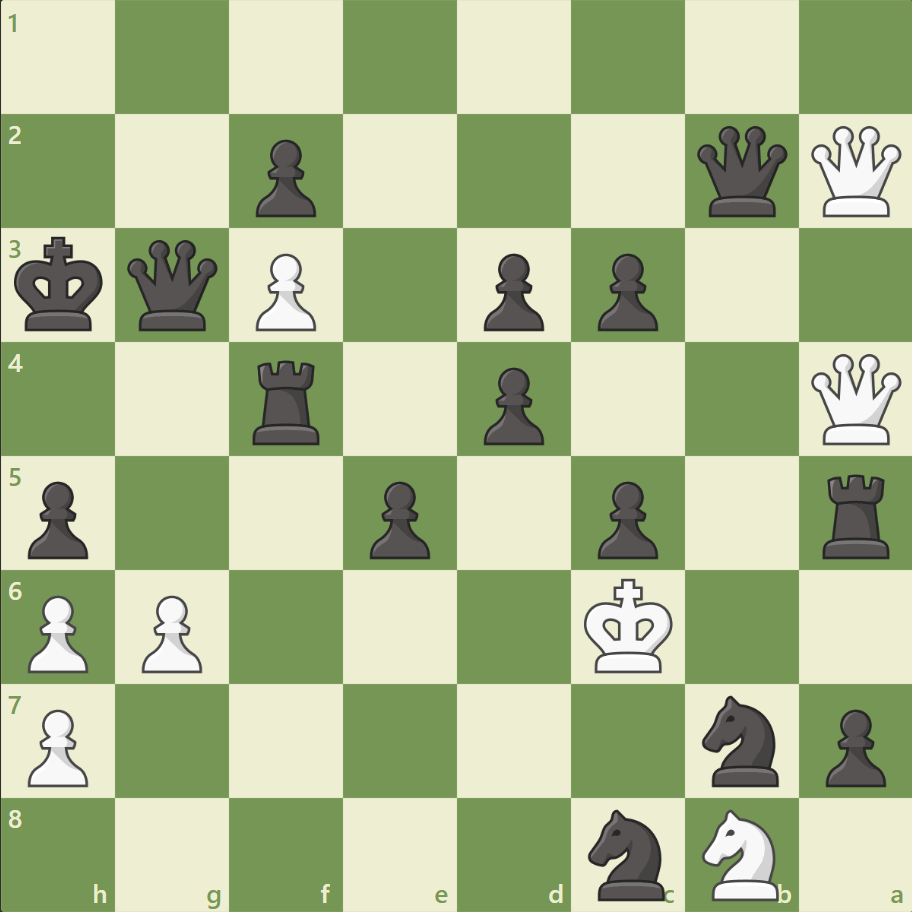K: (579, 571, 679, 679)
N: (692, 802, 789, 904)
P: (20, 700, 95, 791), (133, 586, 208, 677), (20, 586, 95, 677), (247, 246, 322, 337)
Q: (805, 349, 904, 449), (805, 122, 904, 222)
k: (11, 231, 111, 339)
n: (692, 688, 789, 791), (579, 802, 676, 904)
p: (20, 473, 95, 564), (474, 359, 549, 450), (474, 246, 549, 337), (247, 132, 322, 223), (815, 700, 889, 791), (588, 473, 662, 564), (361, 473, 435, 564), (588, 246, 662, 337)
q: (691, 122, 790, 222), (124, 236, 223, 335)
r: (814, 466, 897, 563), (246, 352, 329, 449)
